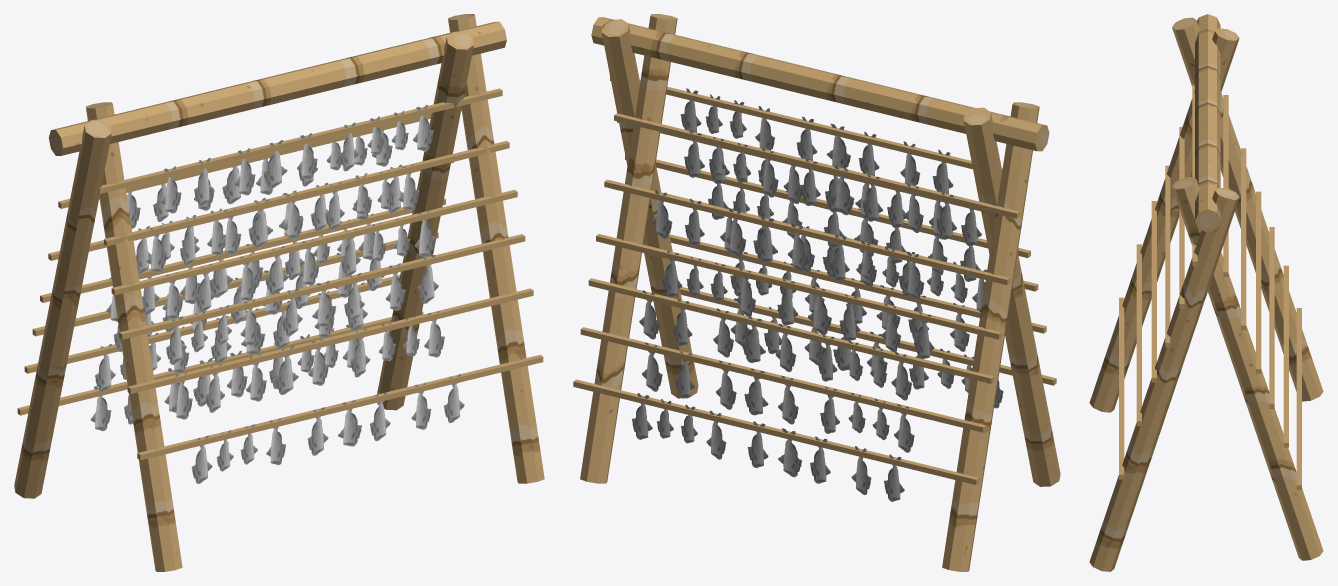
Rendered from FishRack.fbx.
The picture shows the model from 3 angles, left to right: view 1: azimuth 30°, elevation 25°; view 2: azimuth 150°, elevation 25°; view 3: azimuth 270°, elevation 25°; orthographic projection. The views are drawn at different scales.
Parts seen in each view (by area): view 1: FishingRack; view 2: FishingRack; view 3: FishingRack.
Boxes of the visible parts, x1,y1,x2,y2 form: FishingRack: [14, 14, 544, 571]; FishingRack: [573, 14, 1060, 571]; FishingRack: [1089, 14, 1323, 571].
Bounding box in the file's own units: 15.88 × 14.37 × 8.05.
1 material, 1 textured.
